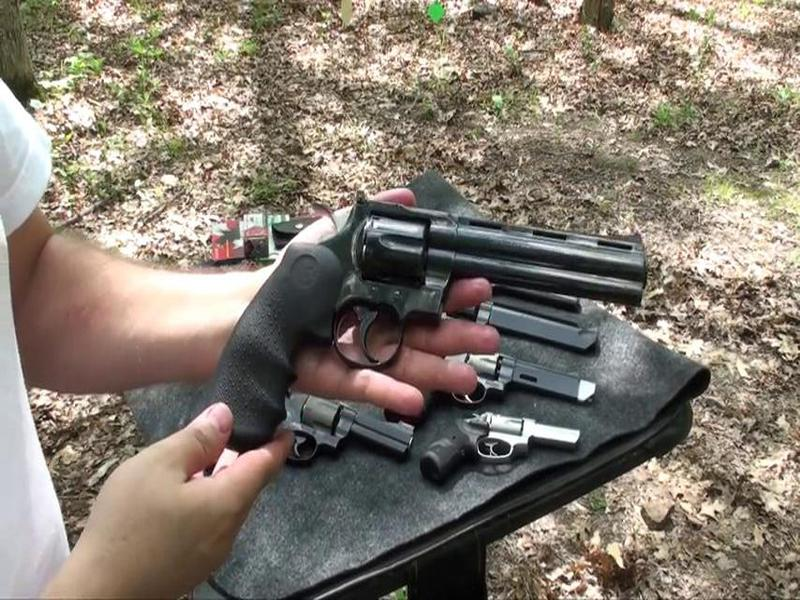Revolver: (242, 181, 653, 418)
